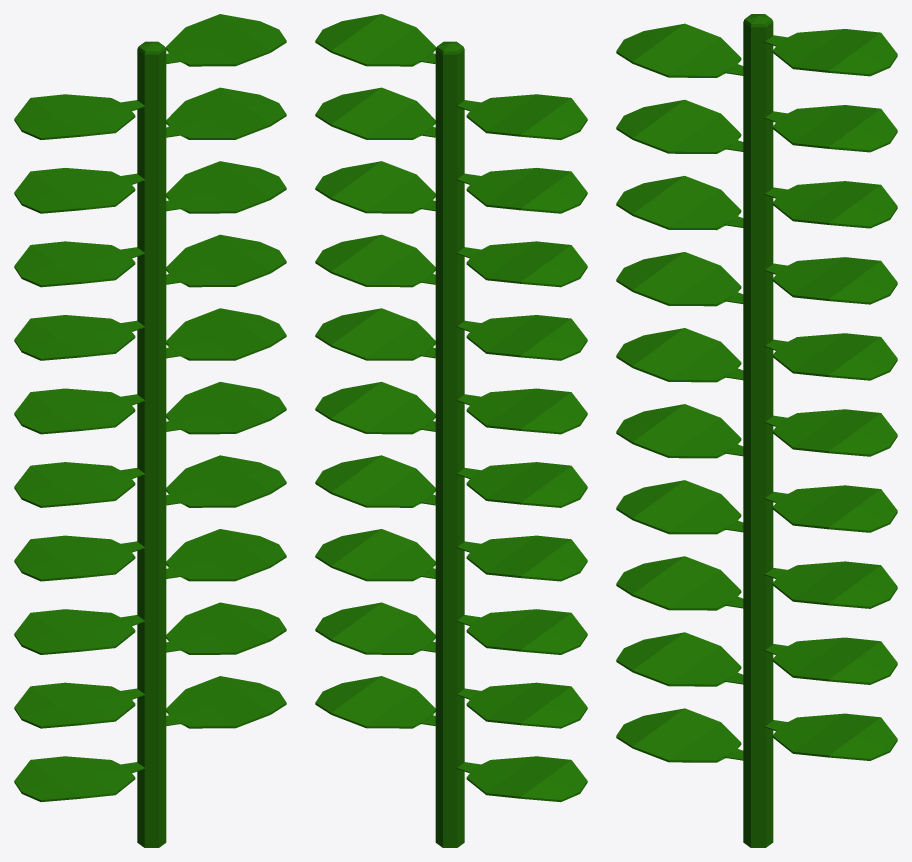
File: seaweed.fbx
The picture shows the model from 3 angles, left to right: view 1: azimuth 30°, elevation 25°; view 2: azimuth 150°, elevation 25°; view 3: azimuth 330°, elevation 25°; orthographic projection. The views are drawn at different scales.
Visible parts, largest first — view 1: Seaweed; view 2: Seaweed; view 3: Seaweed.
Part boxes in pixels (left/top/right/bottom): Seaweed: left=14, top=14, right=286, bottom=847; Seaweed: left=315, top=14, right=587, bottom=847; Seaweed: left=616, top=14, right=897, bottom=847.
Size of the model in its own units: 486 by 1442 by 165.
